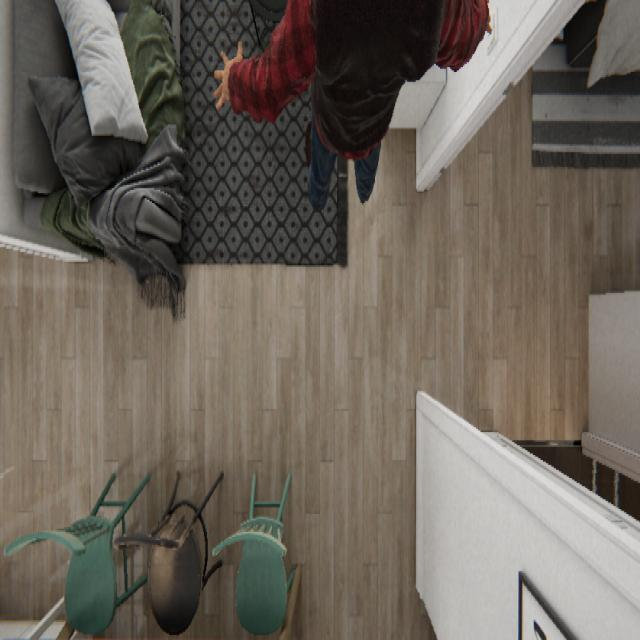Human: (212, 0, 491, 211)
